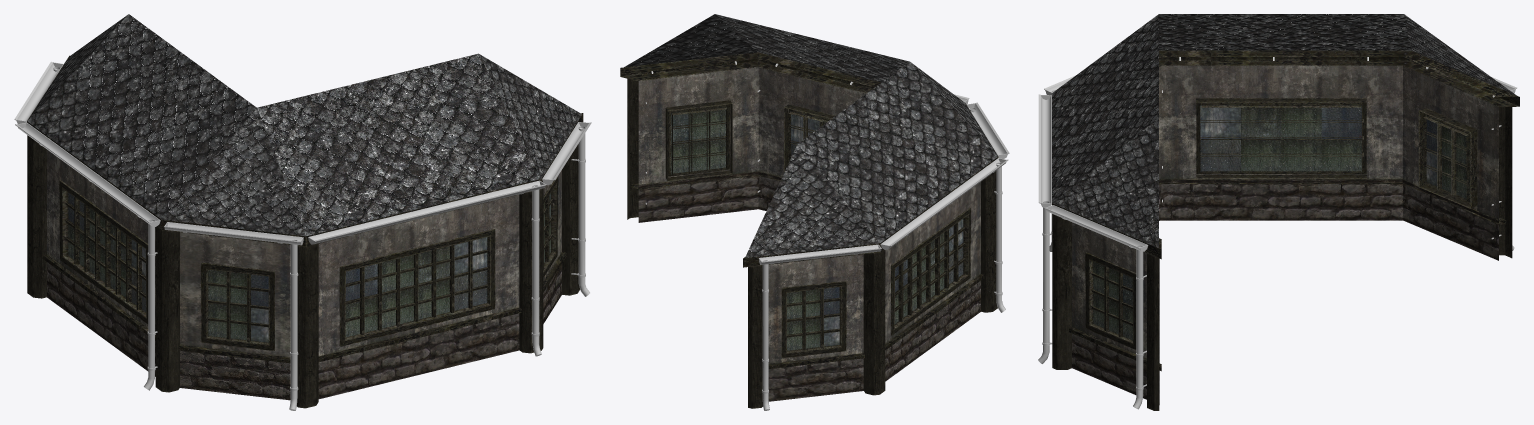
File: pubwall02.DAE
3 views of the same model, side by side, from view 1: azimuth 30°, elevation 25°; view 2: azimuth 150°, elevation 25°; view 3: azimuth 270°, elevation 25° (orthographic). The views are drawn at different scales.
Visible parts, largest first — view 1: Object031, pPlane004, Object033, Object034, Object032, Object067, Object068; view 2: Object031, pPlane004, Object033, Object034, Object032, Object067, Object068; view 3: Object031, pPlane004, Object033, Object034, Object032, Object067, Object068.
Part boxes in pixels (box(x1,y1,x2,y2)): Object031: box(27, 14, 581, 236); pPlane004: box(27, 55, 583, 408); Object033: box(47, 77, 561, 357); Object034: box(47, 262, 561, 400); Object032: box(68, 193, 550, 342); Object067: box(14, 61, 591, 353); Object068: box(38, 142, 589, 410); Object031: box(624, 14, 997, 257); pPlane004: box(620, 52, 998, 408); Object033: box(638, 66, 980, 363); Object034: box(638, 172, 980, 401); Object032: box(671, 106, 963, 350); Object067: box(641, 54, 1009, 360); Object068: box(645, 61, 1005, 410); Object031: box(1052, 14, 1516, 248); pPlane004: box(1052, 50, 1519, 410); Object033: box(1072, 65, 1498, 363); Object034: box(1072, 180, 1498, 404); Object032: box(1093, 105, 1470, 340); Object067: box(1038, 46, 1516, 354); Object068: box(1038, 57, 1514, 409).
Bounding box in the file's own units: 10.66 × 6 × 10.6.
